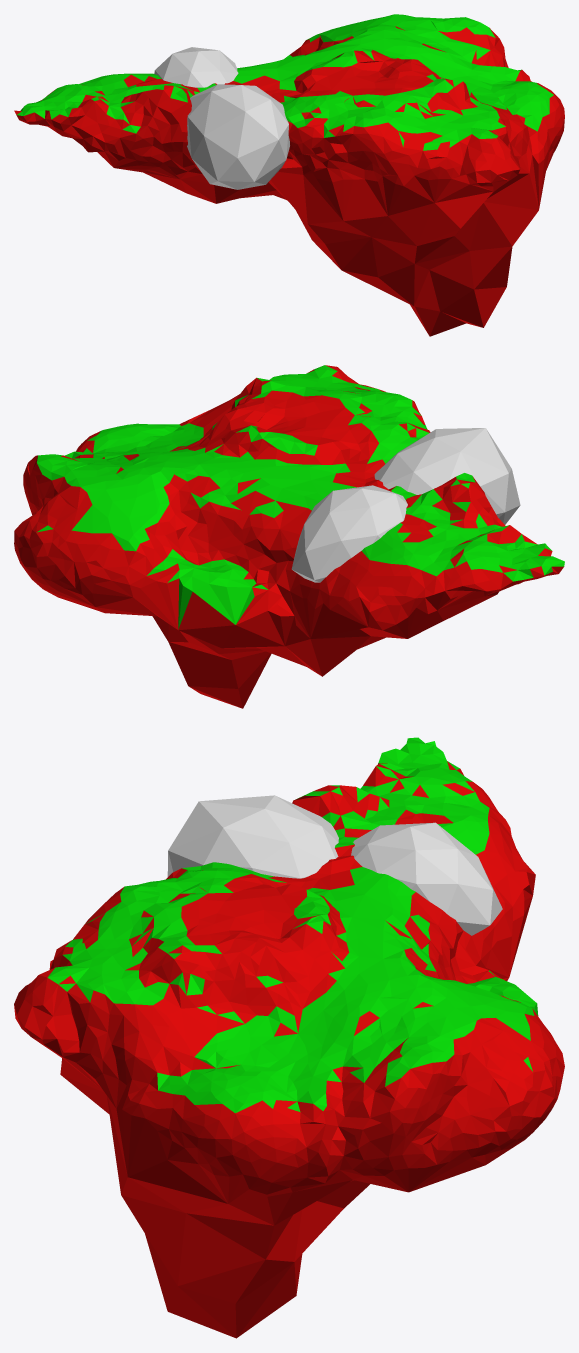
The model's file is Isle_Static_GrannysHouse_Collider.fbx.
The picture shows the model from 3 angles, top to bottom: view 1: azimuth 30°, elevation 25°; view 2: azimuth 150°, elevation 25°; view 3: azimuth 270°, elevation 25°; orthographic projection. The views are drawn at different scales.
Visible parts, largest first — view 1: Isle_Static_GrannysHouse_Collider; view 2: Isle_Static_GrannysHouse_Collider; view 3: Isle_Static_GrannysHouse_Collider.
Part boxes in pixels (box(x1,y1,x2,y2)): Isle_Static_GrannysHouse_Collider: box(14, 14, 564, 336); Isle_Static_GrannysHouse_Collider: box(14, 365, 564, 708); Isle_Static_GrannysHouse_Collider: box(14, 737, 564, 1338).
Bounding box in the file's own units: 6701 × 3814 × 4855.
